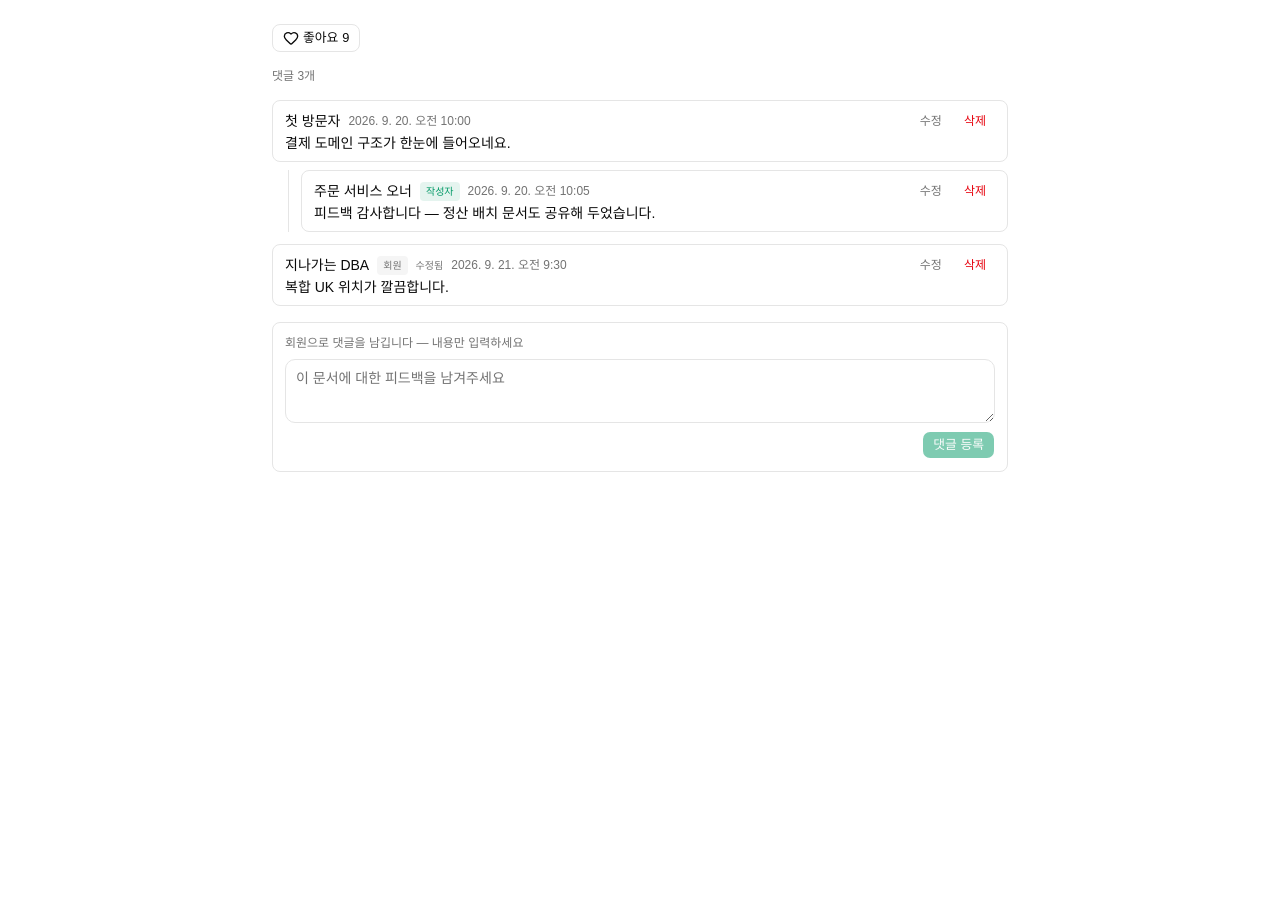
Scenario: ShareFeedbackSection — 문서 좋아요(회원전용) › reverts the optimistic flip and toasts when the toggle fails
Expected: the list with test id "share-comment-list" is shown, left=272, top=100, right=1008, bottom=306
Step 1. Click the button with test id "share-reaction-button" → (316, 38), box left=272, top=24, right=360, bottom=52
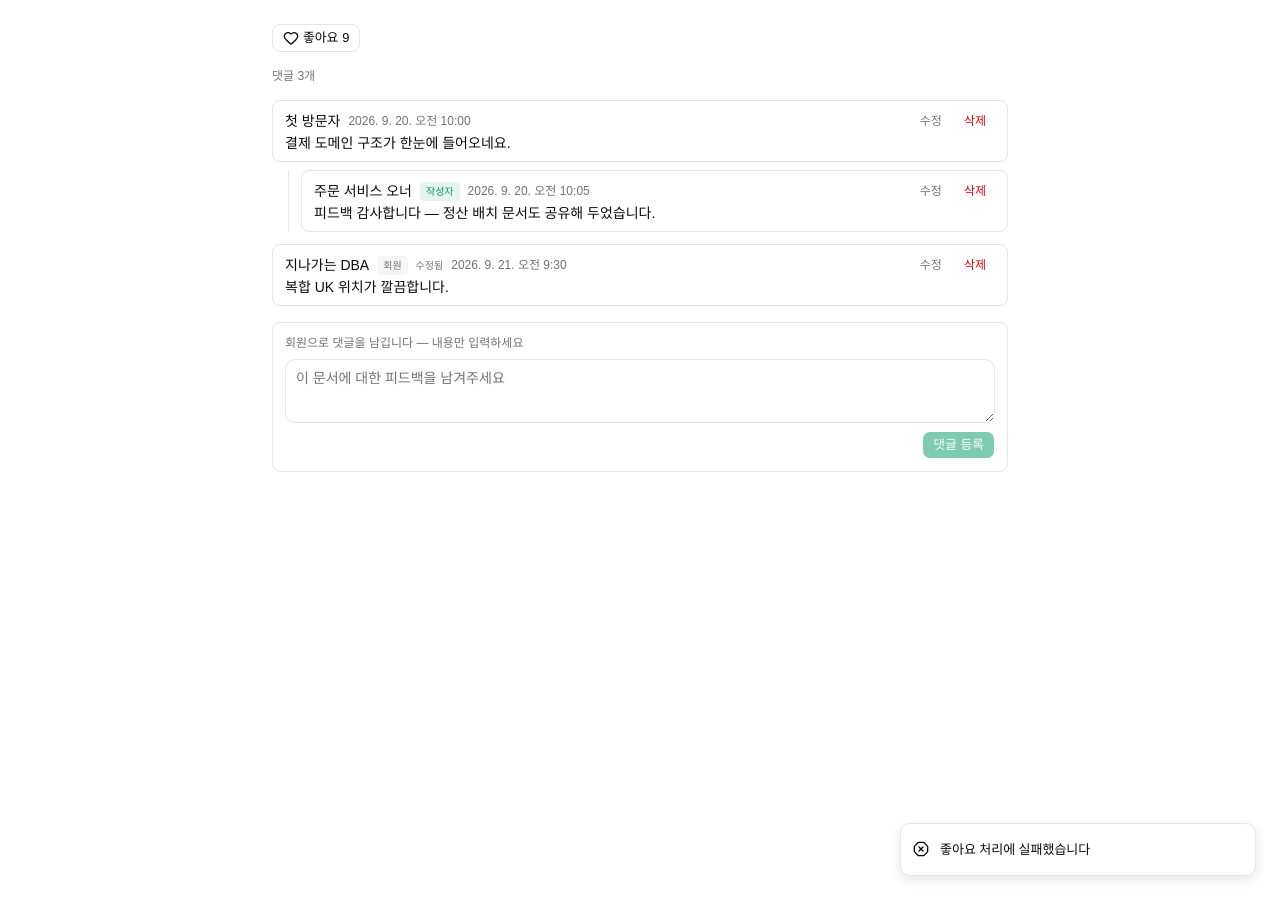
Expected: the text with test id "share-reaction-count" reads "9", left=342, top=30, right=349, bottom=45
Expected: the text "좋아요 처리에 실패했습니다" is shown, left=940, top=840, right=1090, bottom=859
